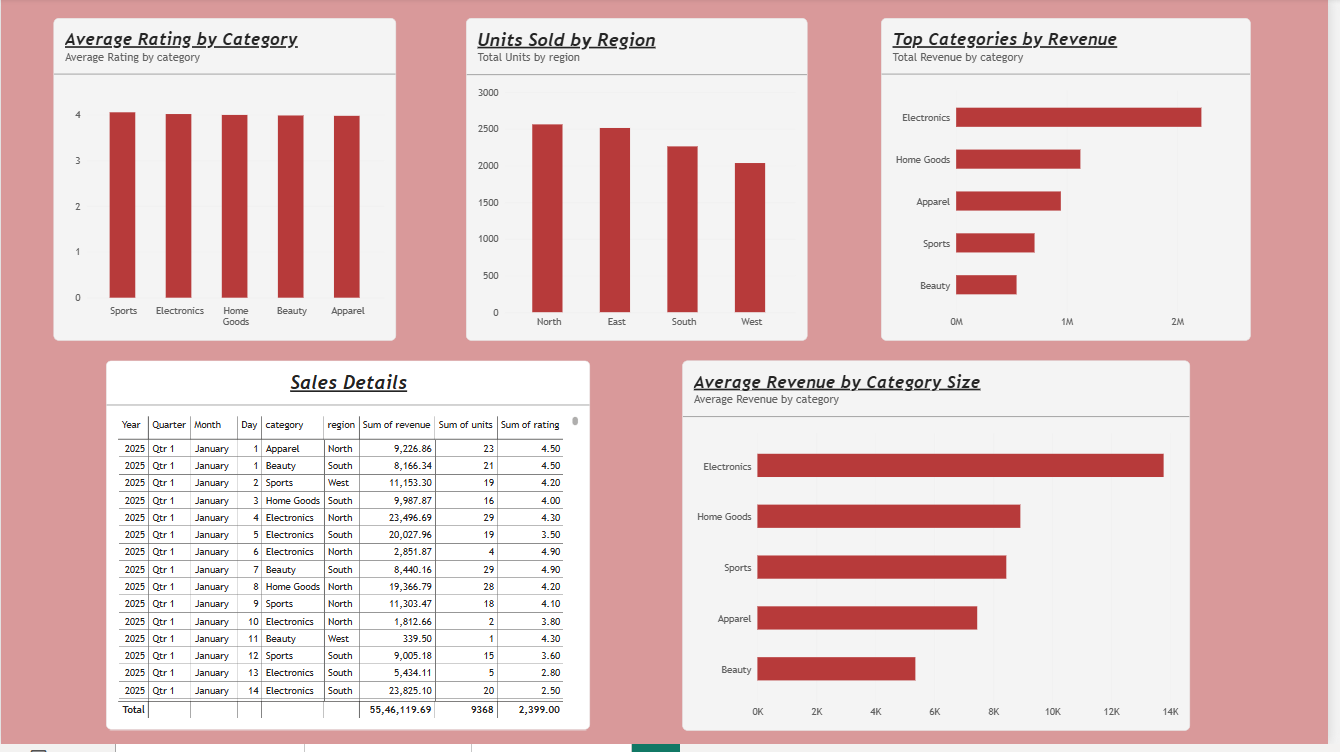

What the dashboard file says about the page in this screenshot:
{"tool":"powerbi","page":{"name":"Detailed Analysis","canvas":[1920,1080],"ordinal":1},"visuals":[{"type":"clusteredColumnChart","title":"Average Rating by Category","fields":{"Category":["data_pulse_sales_dataset.category"],"Y":["data_pulse_sales_dataset.Average Rating"]},"box":[79.7,101.4,496.3,467.3],"z":0},{"type":"tableEx","title":"Sales Details","fields":{"Values":["data_pulse_sales_dataset.date.Variation.Date Hierarchy.Year","data_pulse_sales_dataset.date.Variation.Date Hierarchy.Quarter","data_pulse_sales_dataset.date.Variation.Date Hierarchy.Month","data_pulse_sales_dataset.date.Variation.Date Hierarchy.Day","data_pulse_sales_dataset.category","data_pulse_sales_dataset.region","Sum(data_pulse_sales_dataset.revenue)","Sum(data_pulse_sales_dataset.units)","Sum(data_pulse_sales_dataset.rating)"]},"box":[182.9,592.3,701,487.2],"z":1},{"type":"clusteredColumnChart","title":"Units Sold by Region","fields":{"Category":["data_pulse_sales_dataset.region"],"Y":["data_pulse_sales_dataset.Total Units"]},"box":[670.2,101.4,494.5,467.3],"z":2},{"type":"clusteredBarChart","title":"Average Revenue by Category  Size","fields":{"Category":["data_pulse_sales_dataset.category"],"Y":["data_pulse_sales_dataset.Average Revenue"]},"box":[987.2,592.3,735.4,487.2],"z":3},{"type":"clusteredBarChart","title":"Top Categories by Revenue","fields":{"Category":["data_pulse_sales_dataset.category"],"Y":["data_pulse_sales_dataset.Total Revenue"]},"box":[1262.5,101.4,535,467.3],"z":4},{"type":"textbox","box":[32.6,23.5,1746.1,77.9],"z":5}]}

Visuals, with their boxes in screenshot pixels (x1, y1, x2, y2), scaled from the page's 1920x1080 canvas onto the 1340x752 screenshot:
"Average Rating by Category" clusteredColumnChart: BBox(56, 71, 402, 396)
"Sales Details" tableEx: BBox(128, 412, 617, 751)
"Units Sold by Region" clusteredColumnChart: BBox(468, 71, 813, 396)
"Average Revenue by Category  Size" clusteredBarChart: BBox(689, 412, 1202, 751)
"Top Categories by Revenue" clusteredBarChart: BBox(881, 71, 1255, 396)
textbox: BBox(23, 16, 1241, 71)
